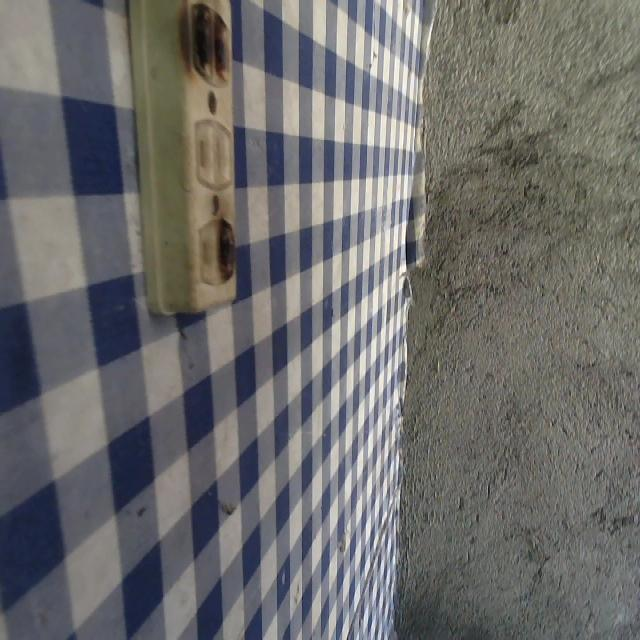-: (180, 2, 239, 102), (209, 210, 242, 290)
